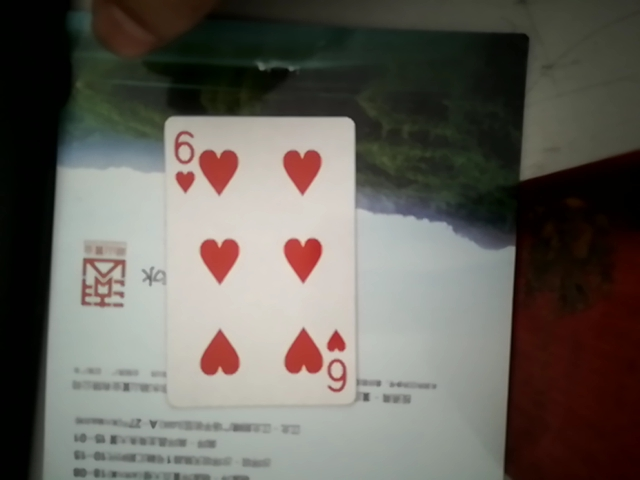hx 6: (153, 111, 361, 412)
